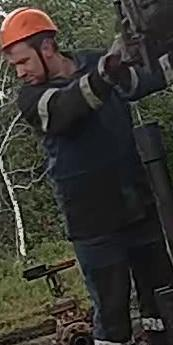helmet: (0, 6, 58, 51)
vest: (30, 75, 156, 241)
